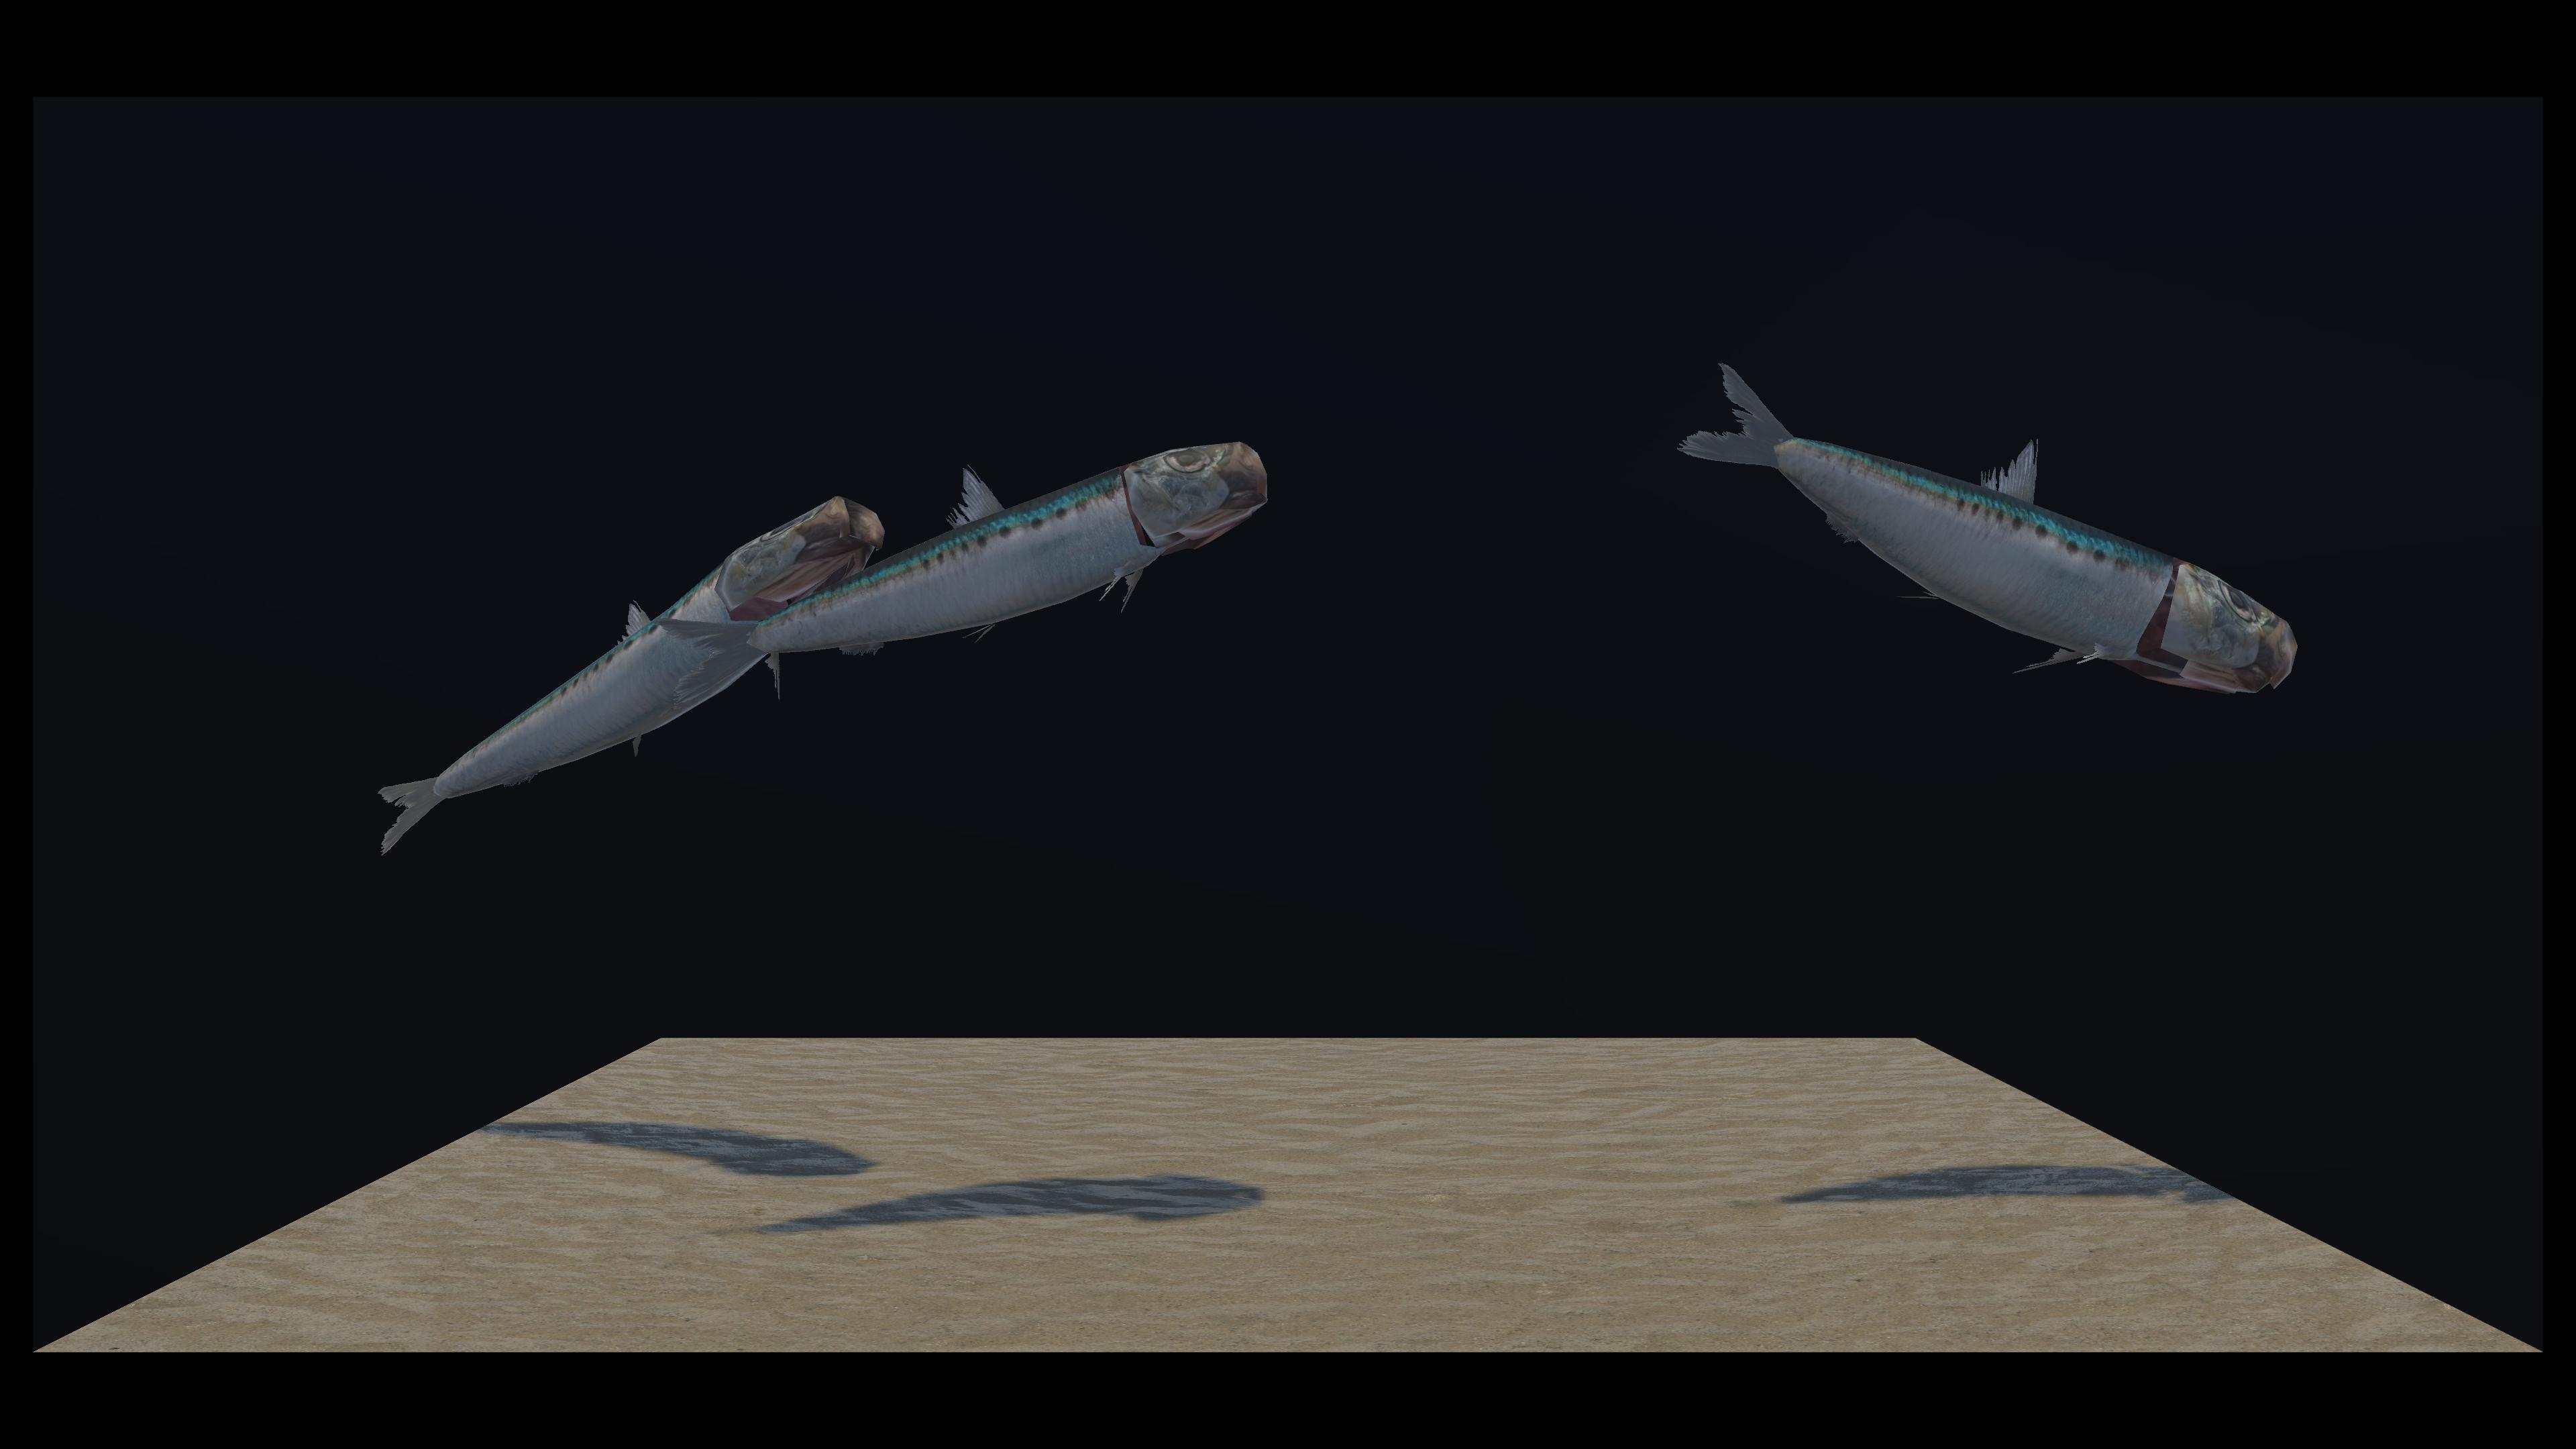Sardine_Front: (888, 366, 2273, 679), (384, 501, 964, 851), (655, 444, 1235, 706)
